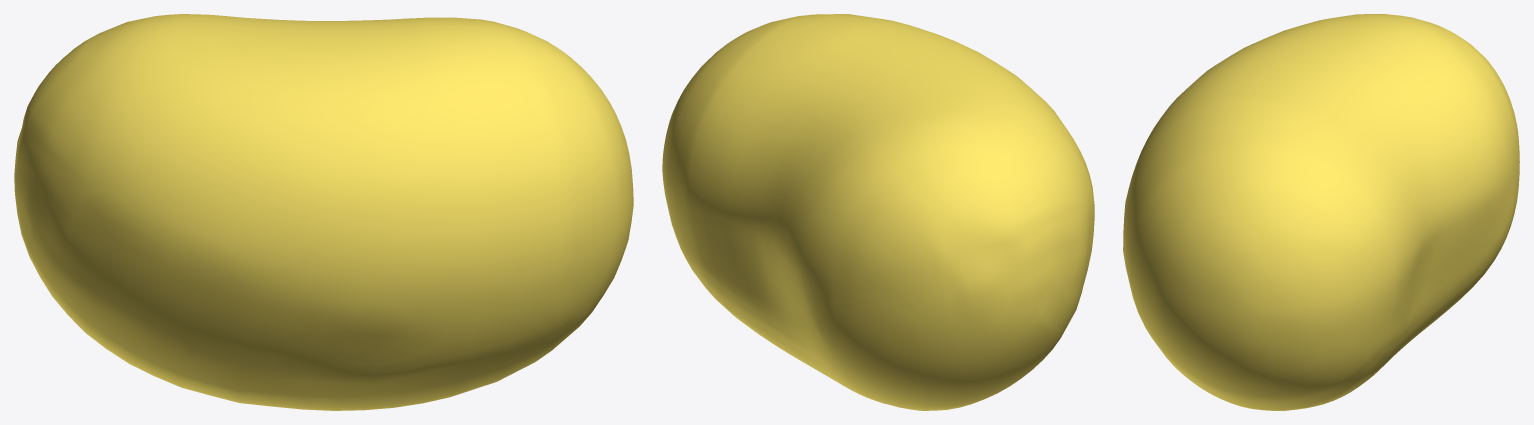
The model's file is jellyBeanYellow.fbx.
3 renders of one model, left to right at view 1: azimuth 30°, elevation 25°; view 2: azimuth 150°, elevation 25°; view 3: azimuth 270°, elevation 25°, orthographic. The views are drawn at different scales.
Visible parts, largest first — view 1: pasted__pasted__model; view 2: pasted__pasted__model; view 3: pasted__pasted__model.
Boxes of the visible parts, bbox=[...] form: pasted__pasted__model: bbox=[14, 14, 633, 410]; pasted__pasted__model: bbox=[662, 14, 1094, 410]; pasted__pasted__model: bbox=[1123, 14, 1519, 410].
Bounding box in the file's own units: 2.02 × 1.37 × 1.64.
